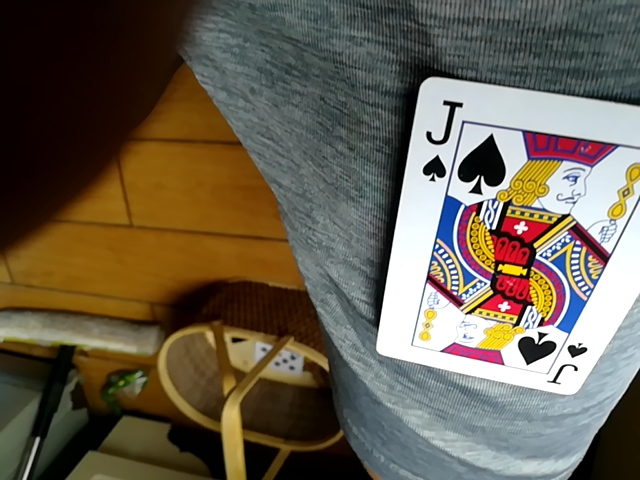ht j: (377, 77, 640, 406)
